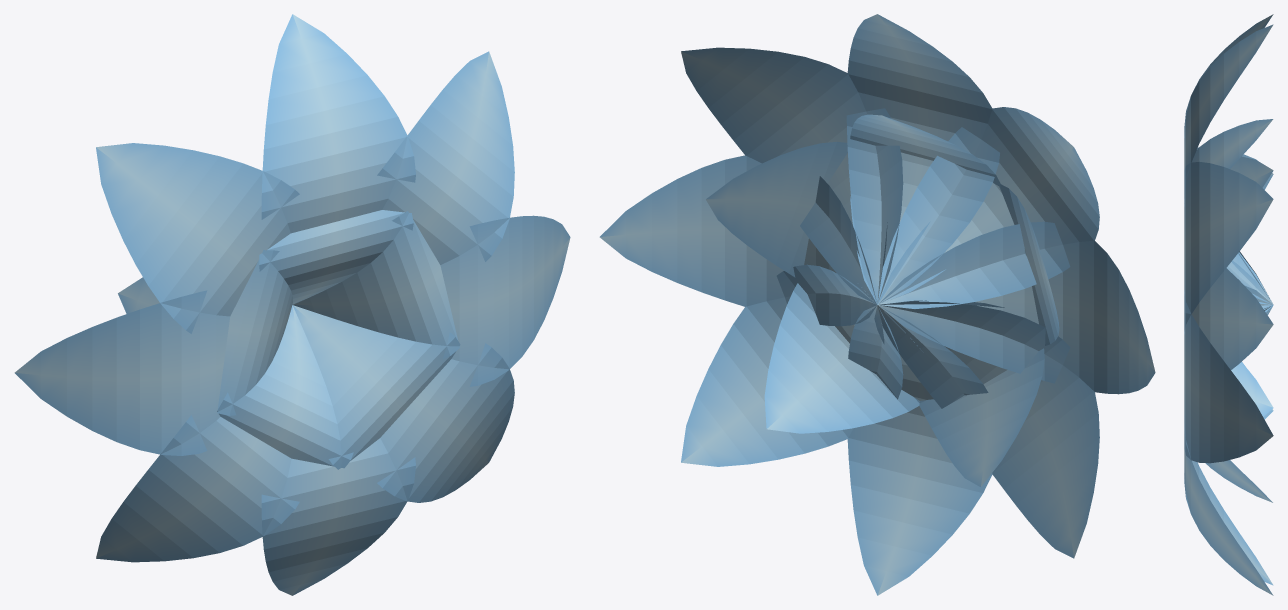
The model's file is Ganyu_IceLotusExplosion_BriefIceLotus.fbx.
3 views of the same model, side by side, from view 1: azimuth 30°, elevation 25°; view 2: azimuth 150°, elevation 25°; view 3: azimuth 270°, elevation 25° (orthographic). The views are drawn at different scales.
Visible parts, largest first — view 1: PART_AuthoredShortIceLotusPetal_0_3, PART_AuthoredShortIceLotusPetal_0_4, PART_AuthoredShortIceLotusPetal_0_2, PART_AuthoredShortIceLotusPetal_0_5, PART_AuthoredShortIceLotusPetal_0_1, PART_AuthoredShortIceLotusPetal_0_6, PART_AuthoredShortIceLotusPetal_0_0, PART_AuthoredShortIceLotusPetal_0_7, PART_AuthoredShortIceLotusPetal_1_4, PART_AuthoredShortIceLotusPetal_1_0, PART_AuthoredShortIceLotusPetal_1_3, PART_AuthoredShortIceLotusPetal_1_2 (+1 smaller); view 2: PART_AuthoredShortIceLotusPetal_0_4, PART_AuthoredShortIceLotusPetal_0_2, PART_AuthoredShortIceLotusPetal_0_1, PART_AuthoredShortIceLotusPetal_0_3, PART_AuthoredShortIceLotusPetal_0_6, PART_AuthoredShortIceLotusPetal_0_5, PART_AuthoredShortIceLotusPetal_0_0, PART_AuthoredShortIceLotusPetal_0_7, PART_AuthoredShortIceLotusPetal_1_4, PART_AuthoredShortIceLotusPetal_1_0, PART_AuthoredShortIceLotusPetal_1_3, PART_AuthoredShortIceLotusPetal_1_1 (+1 smaller); view 3: PART_AuthoredShortIceLotusPetal_0_1, PART_AuthoredShortIceLotusPetal_0_0, PART_AuthoredShortIceLotusPetal_1_0, PART_AuthoredShortIceLotusPetal_0_2, PART_AuthoredShortIceLotusPetal_0_7, PART_AuthoredShortIceLotusPetal_1_1, PART_AuthoredShortIceLotusPetal_0_6, PART_AuthoredShortIceLotusPetal_1_4, PART_AuthoredShortIceLotusPetal_1_3, PART_AuthoredShortIceLotusPetal_1_2, PART_AuthoredShortIceLotusPetal_0_3, PART_AuthoredShortIceLotusPetal_0_4.
Boxes of the visible parts, left/top/right/bottom form: PART_AuthoredShortIceLotusPetal_0_3: left=96, top=143, right=299, bottom=333; PART_AuthoredShortIceLotusPetal_0_4: left=14, top=290, right=229, bottom=455; PART_AuthoredShortIceLotusPetal_0_2: left=261, top=14, right=415, bottom=233; PART_AuthoredShortIceLotusPetal_0_5: left=96, top=415, right=299, bottom=562; PART_AuthoredShortIceLotusPetal_0_1: left=377, top=51, right=514, bottom=264; PART_AuthoredShortIceLotusPetal_0_6: left=261, top=438, right=415, bottom=595; PART_AuthoredShortIceLotusPetal_0_0: left=440, top=215, right=570, bottom=386; PART_AuthoredShortIceLotusPetal_0_7: left=377, top=343, right=514, bottom=502; PART_AuthoredShortIceLotusPetal_1_4: left=292, top=305, right=460, bottom=469; PART_AuthoredShortIceLotusPetal_1_0: left=293, top=211, right=459, bottom=358; PART_AuthoredShortIceLotusPetal_1_3: left=217, top=305, right=353, bottom=468; PART_AuthoredShortIceLotusPetal_1_2: left=118, top=250, right=292, bottom=415; PART_AuthoredShortIceLotusPetal_0_4: left=878, top=221, right=1155, bottom=394; PART_AuthoredShortIceLotusPetal_0_2: left=846, top=14, right=999, bottom=304; PART_AuthoredShortIceLotusPetal_0_1: left=681, top=47, right=903, bottom=304; PART_AuthoredShortIceLotusPetal_0_3: left=877, top=107, right=1099, bottom=308; PART_AuthoredShortIceLotusPetal_0_6: left=847, top=305, right=992, bottom=595; PART_AuthoredShortIceLotusPetal_0_5: left=877, top=301, right=1099, bottom=558; PART_AuthoredShortIceLotusPetal_0_0: left=599, top=155, right=876, bottom=326; PART_AuthoredShortIceLotusPetal_0_7: left=681, top=264, right=903, bottom=466; PART_AuthoredShortIceLotusPetal_1_4: left=764, top=283, right=919, bottom=433; PART_AuthoredShortIceLotusPetal_1_0: left=706, top=141, right=887, bottom=310; PART_AuthoredShortIceLotusPetal_1_3: left=874, top=300, right=1044, bottom=487; PART_AuthoredShortIceLotusPetal_1_1: left=850, top=114, right=1000, bottom=304; PART_AuthoredShortIceLotusPetal_0_1: left=1184, top=161, right=1273, bottom=334; PART_AuthoredShortIceLotusPetal_0_0: left=1184, top=285, right=1273, bottom=463; PART_AuthoredShortIceLotusPetal_1_0: left=1191, top=260, right=1273, bottom=369; PART_AuthoredShortIceLotusPetal_0_2: left=1184, top=24, right=1273, bottom=304; PART_AuthoredShortIceLotusPetal_0_7: left=1184, top=306, right=1273, bottom=595; PART_AuthoredShortIceLotusPetal_1_1: left=1191, top=119, right=1273, bottom=304; PART_AuthoredShortIceLotusPetal_0_6: left=1184, top=310, right=1273, bottom=585; PART_AuthoredShortIceLotusPetal_1_4: left=1205, top=306, right=1272, bottom=502; PART_AuthoredShortIceLotusPetal_1_3: left=1231, top=362, right=1273, bottom=416; PART_AuthoredShortIceLotusPetal_1_2: left=1230, top=156, right=1273, bottom=187; PART_AuthoredShortIceLotusPetal_0_3: left=1184, top=14, right=1273, bottom=300; PART_AuthoredShortIceLotusPetal_0_4: left=1197, top=147, right=1273, bottom=295.
Bounding box in the file's own units: 180 × 180 × 26.
